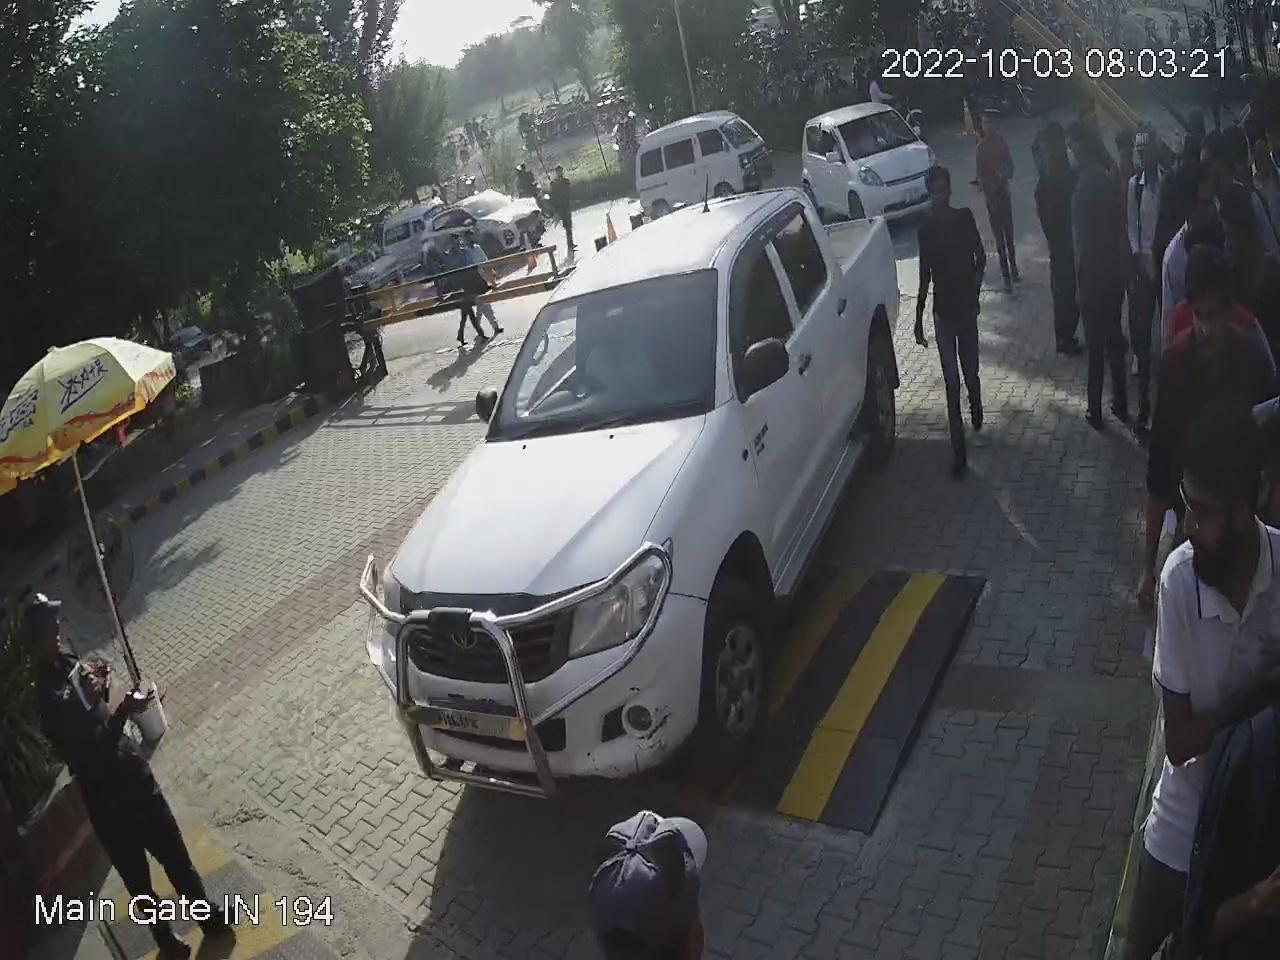windshield: (483, 257, 723, 438)
